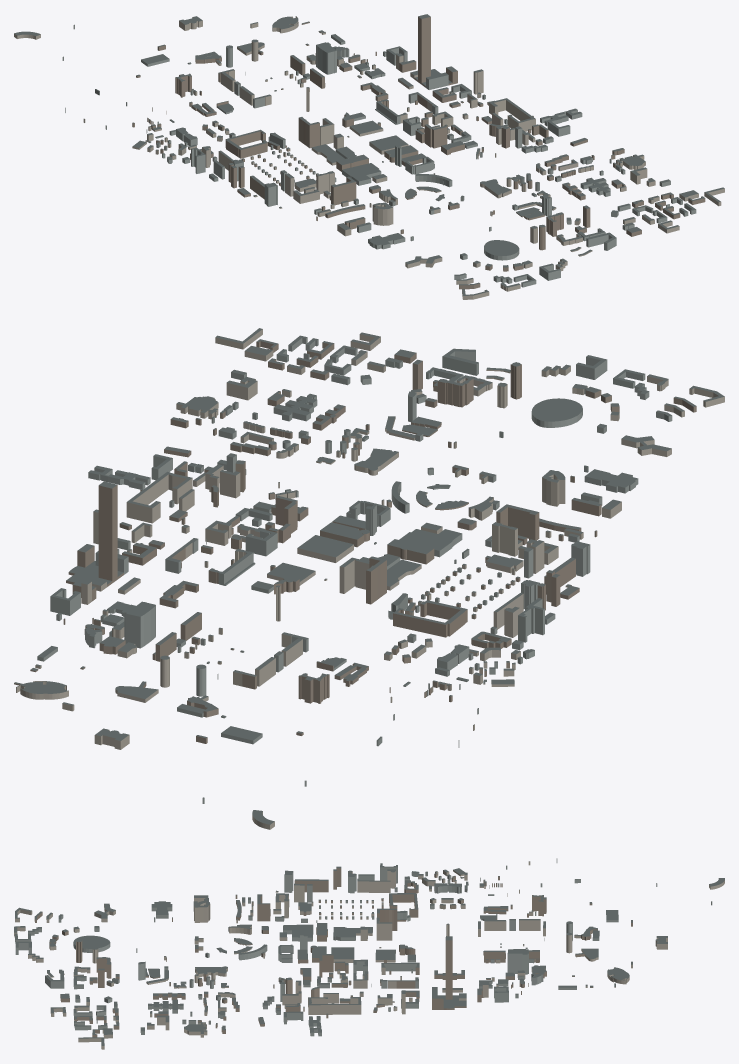
File: mapped-quarter.glb
3 renders of one model, top to bottom at view 1: azimuth 30°, elevation 25°; view 2: azimuth 150°, elevation 25°; view 3: azimuth 270°, elevation 25°, orthographic. The views are drawn at different scales.
Parts seen in each view (by area): view 1: Mapped building 191, Mapped building 2, Mapped building 57, Mapped building 187, Mapped building 427, Mapped building 13, Mapped building 14, Mapped building 407, Mapped building 272, Mapped building 69; view 2: Mapped building 191, Mapped building 2, Mapped building 57, Mapped building 187, Mapped building 427, Mapped building 407, Mapped building 9, Mapped building 13, Mapped building 395, Mapped building 14, Mapped building 223, Mapped building 15 (+6 smaller); view 3: Mapped building 57, Mapped building 427, Mapped building 191, Mapped building 187, Mapped building 2, Mapped building 201, Mapped building 13, Mapped building 9, Mapped building 101, Mapped building 14, Mapped building 69, Mapped building 15 (+1 smaller).
Part boxes in pixels (bbox=[...]): Mapped building 191: bbox=[418, 14, 430, 84]; Mapped building 2: bbox=[225, 129, 267, 158]; Mapped building 57: bbox=[489, 98, 535, 131]; Mapped building 187: bbox=[484, 240, 519, 260]; Mapped building 427: bbox=[316, 42, 336, 74]; Mapped building 13: bbox=[342, 163, 381, 185]; Mapped building 14: bbox=[298, 117, 319, 148]; Mapped building 407: bbox=[331, 176, 356, 205]; Mapped building 272: bbox=[424, 124, 447, 148]; Mapped building 69: bbox=[372, 202, 393, 225]; Mapped building 191: bbox=[98, 481, 117, 582]; Mapped building 2: bbox=[393, 600, 467, 637]; Mapped building 57: bbox=[126, 471, 192, 523]; Mapped building 187: bbox=[531, 398, 582, 427]; Mapped building 427: bbox=[124, 601, 155, 648]; Mapped building 407: bbox=[496, 504, 539, 540]; Mapped building 9: bbox=[297, 535, 353, 562]; Mapped building 13: bbox=[399, 529, 462, 557]; Mapped building 395: bbox=[437, 377, 473, 407]; Mapped building 14: bbox=[366, 556, 386, 604]; Mapped building 223: bbox=[584, 469, 638, 493]; Mapped building 15: bbox=[339, 557, 369, 593]; Mapped building 57: bbox=[308, 997, 361, 1014]; Mapped building 427: bbox=[507, 949, 528, 974]; Mapped building 191: bbox=[445, 936, 452, 999]; Mapped building 187: bbox=[73, 935, 110, 952]; Mapped building 2: bbox=[389, 893, 418, 917]; Mapped building 201: bbox=[357, 880, 390, 892]; Mapped building 13: bbox=[283, 924, 313, 941]; Mapped building 9: bbox=[331, 947, 354, 962]; Mapped building 101: bbox=[294, 879, 328, 892]; Mapped building 14: bbox=[377, 908, 397, 930]; Mapped building 69: bbox=[194, 901, 210, 922]; Mapped building 15: bbox=[376, 917, 392, 940].
Size of the model in its own units: 2454 by 372 by 3952.
